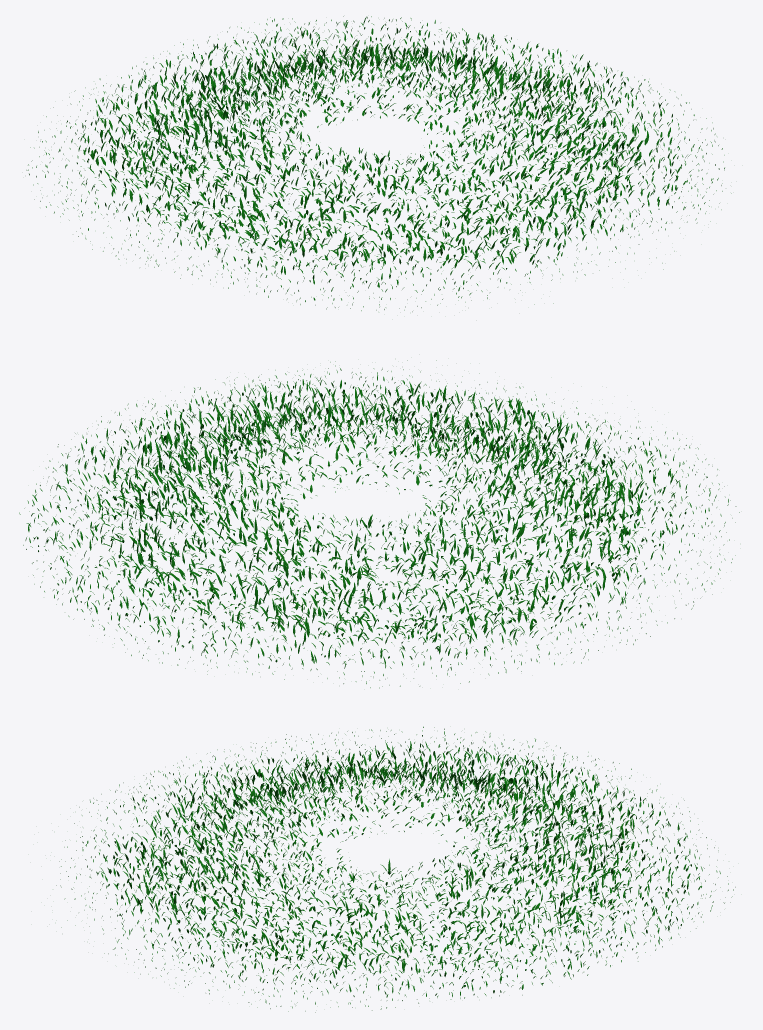
The model's file is 02_Grass40k_01.fbx.
The picture shows the model from 3 angles, top to bottom: view 1: azimuth 30°, elevation 25°; view 2: azimuth 150°, elevation 25°; view 3: azimuth 270°, elevation 25°; orthographic projection. The views are drawn at different scales.
Parts seen in each view (by area): view 1: Grass6k_geo, Grass12k_geo.001; view 2: Grass6k_geo, Grass12k_geo.001; view 3: Grass6k_geo, Grass12k_geo.001.
Part boxes in pixels (x1,y1,x2,y2): Grass6k_geo: (26,16,731,311); Grass12k_geo.001: (120,47,640,269); Grass6k_geo: (19,360,739,688); Grass12k_geo.001: (86,406,645,644); Grass6k_geo: (56,726,735,1012); Grass12k_geo.001: (137,763,638,976).
Bounding box in the file's own units: 4800 × 390 × 5036.
